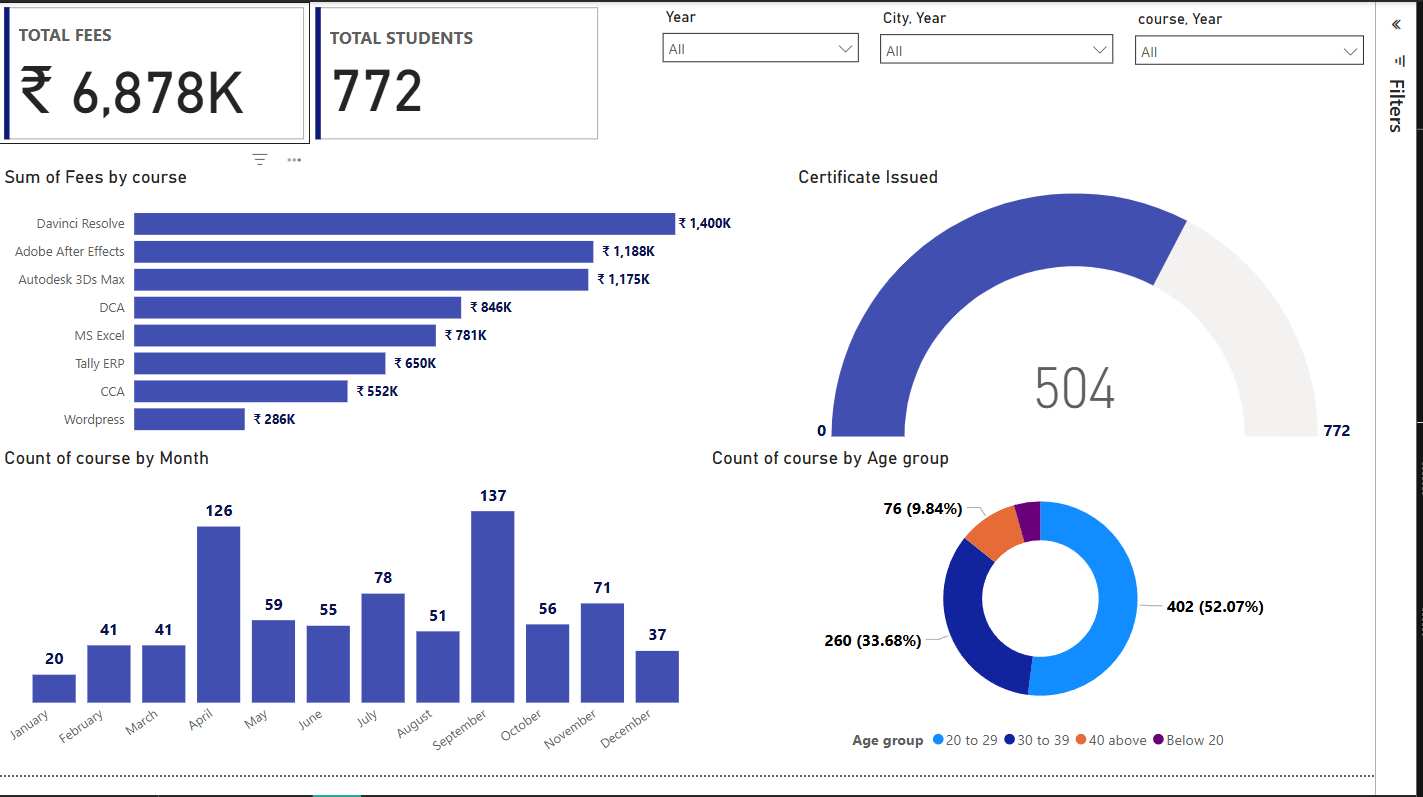

The page's visual inventory and layout, read from the dashboard file:
{"tool":"powerbi","page":{"name":"ABC iins report","canvas":[1280,720],"ordinal":0},"visuals":[{"type":"clusteredColumnChart","fields":{"Category":["Student Course Details.Date of join.Variation.Date Hierarchy.Year","Student Course Details.Date of join.Variation.Date Hierarchy.Quarter","Student Course Details.Date of join.Variation.Date Hierarchy.Month","Student Course Details.Date of join.Variation.Date Hierarchy.Day"],"Y":["Student Course Details.course"]},"box":[0,414.4,658.7,306],"z":0},{"type":"donutChart","fields":{"Category":["Student Course Details.Age group"],"Y":["Student Course Details.course"]},"box":[658.7,414.4,621.6,290.9],"z":1000},{"type":"clusteredBarChart","fields":{"Category":["Student Course Details.course"],"Y":["Student Course Details.Fees"]},"box":[0,152.3,686.1,262.1],"z":2000},{"type":"cardVisual","title":"TOTAL FEES","fields":{"Data":["Student Course Details.Fees"]},"box":[0,0,289.5,133.1],"z":3000},{"type":"cardVisual","fields":{"Data":["Student Course Details.Student Name"]},"box":[289.5,0,273.1,133.1],"z":4000},{"type":"gauge","fields":{"Y":["Personlal Details.Countyes"]},"box":[738.3,152.3,542,262.1],"z":5000},{"type":"slicer","fields":{"Values":["Student Course Details.Date of join.Variation.Date Hierarchy.Year"]},"box":[606.5,0,203.1,149.6],"z":6000},{"type":"slicer","fields":{"Values":["Personlal Details.City","Student Course Details.Date of join.Variation.Date Hierarchy.Year"]},"box":[809.6,1.4,237.4,148.2],"z":7000},{"type":"slicer","fields":{"Values":["Student Course Details.course","Student Course Details.Date of join.Variation.Date Hierarchy.Year"]},"box":[1047,2.7,233.3,146.8],"z":8000}]}

Visuals, with their boxes on the page's 1280x720 design canvas (x1, y1, x2, y2). These are canvas units, not pixel positions in the 1423x797 screenshot, which may show the page scaled, cropped or inside an application window:
clusteredColumnChart - Student Course Details.Date of join.Variation.Date Hierarchy.Year x Student Course Details.Date of join.Variation.Date Hierarchy.Quarter: rect(0, 414, 659, 720)
donutChart - Student Course Details.Age group x Student Course Details.course: rect(659, 414, 1280, 705)
clusteredBarChart - Student Course Details.course x Student Course Details.Fees: rect(0, 152, 686, 414)
"TOTAL FEES" cardVisual: rect(0, 0, 290, 133)
cardVisual - Student Course Details.Student Name: rect(290, 0, 563, 133)
gauge - Personlal Details.Countyes: rect(738, 152, 1280, 414)
slicer - Student Course Details.Date of join.Variation.Date Hierarchy.Year: rect(606, 0, 810, 150)
slicer - Personlal Details.City x Student Course Details.Date of join.Variation.Date Hierarchy.Year: rect(810, 1, 1047, 150)
slicer - Student Course Details.course x Student Course Details.Date of join.Variation.Date Hierarchy.Year: rect(1047, 3, 1280, 150)
